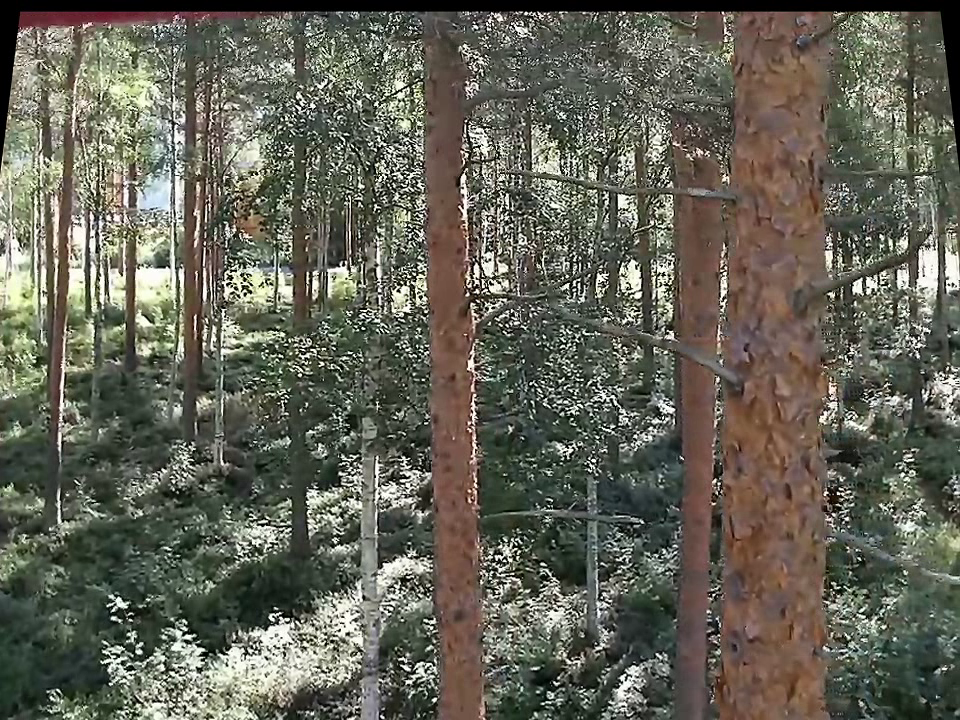branch: (468, 277, 722, 386), (502, 158, 729, 210), (486, 488, 648, 539)
trunk: (716, 15, 848, 707), (414, 30, 493, 706), (662, 104, 723, 707), (343, 185, 391, 712), (278, 157, 320, 573), (169, 87, 217, 448), (42, 49, 70, 548), (116, 166, 151, 394), (578, 424, 607, 646)
